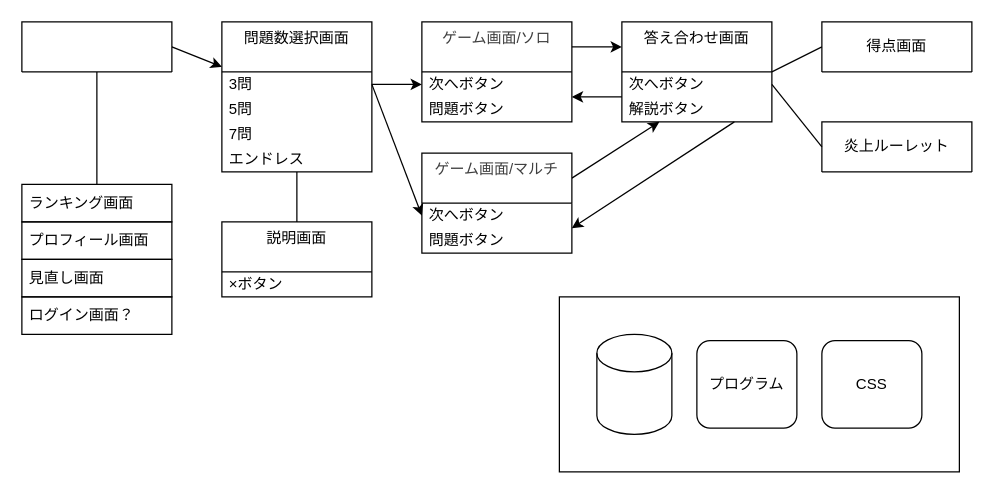
This 994x494 diagram has some shape labels left out. Each missing label, with the centre of its shape:
"DB" goes at point 634,383.
"ホーム画面 index.html" goes at point 96,46.
